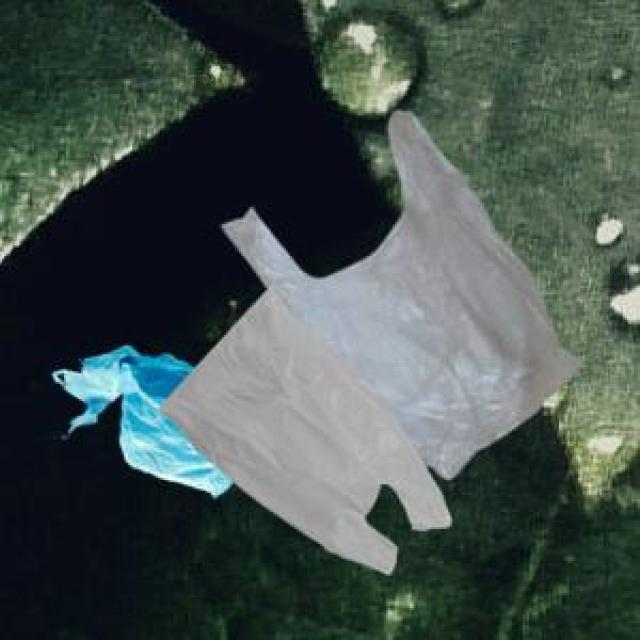waste: (54, 111, 579, 573)
